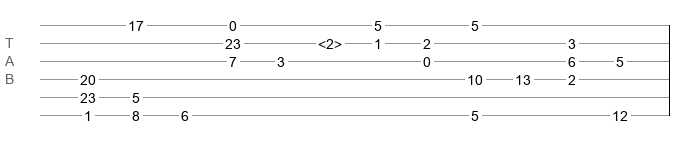0: (229, 18, 237, 28), (423, 54, 431, 64)
1: (84, 108, 92, 118), (374, 36, 382, 46)
10: (467, 72, 483, 82)
12: (612, 108, 628, 118)
13: (515, 72, 531, 82)
17: (128, 18, 144, 28)
2: (423, 36, 431, 46), (568, 72, 576, 82)
20: (80, 72, 96, 82)
23: (80, 90, 96, 100), (225, 36, 241, 46)
3: (277, 54, 285, 64), (568, 36, 576, 46)
5: (132, 90, 140, 100), (374, 18, 382, 28), (471, 18, 479, 28), (471, 108, 479, 118), (616, 54, 624, 64)
6: (181, 108, 189, 118), (568, 54, 576, 64)
7: (229, 54, 237, 64)
8: (132, 108, 140, 118)
harmonic: (318, 36, 342, 46)
